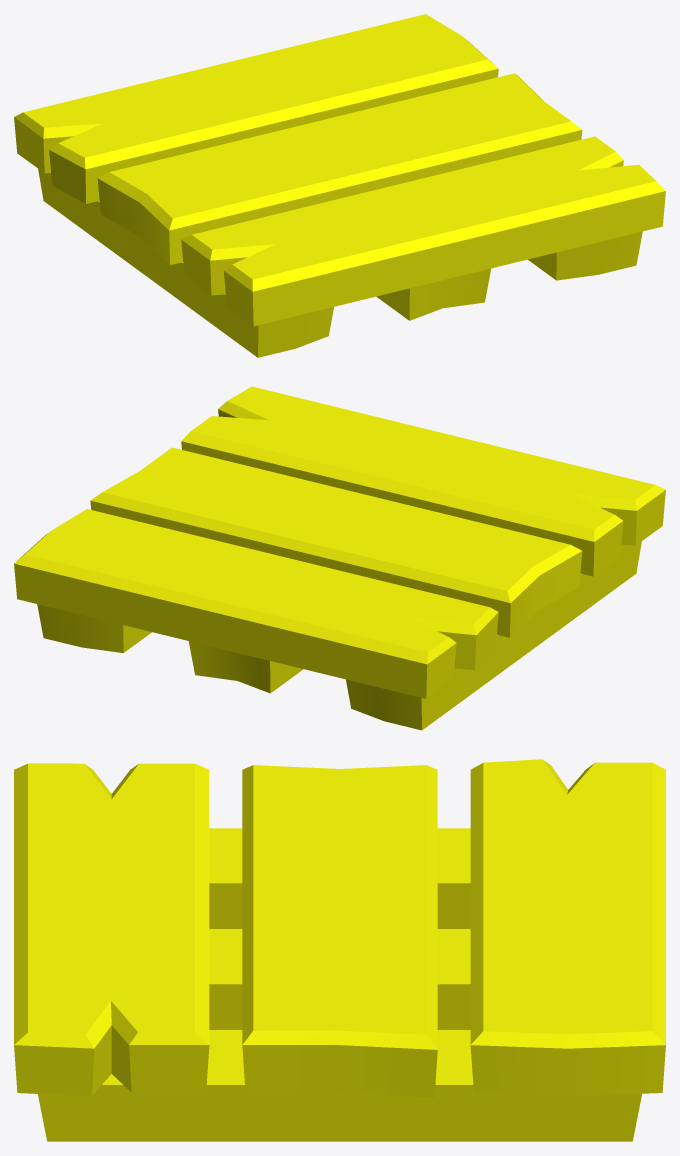
The model's file is kaykit-pallet-wood.glb.
3 views of the same model, one above another, from view 1: azimuth 30°, elevation 25°; view 2: azimuth 150°, elevation 25°; view 3: azimuth 270°, elevation 25° (orthographic). The views are drawn at different scales.
Parts seen in each view (by area): view 1: Pallet_Wood; view 2: Pallet_Wood; view 3: Pallet_Wood.
Boxes of the visible parts, box(x1,y1,x2,y2) form: Pallet_Wood: box(14, 14, 665, 357); Pallet_Wood: box(14, 386, 665, 730); Pallet_Wood: box(14, 759, 665, 1141).
Size of the model in its own units: 1.55 by 0.2999 by 1.5.
